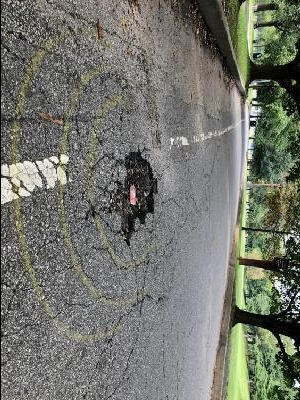pothole: (114, 146, 159, 246)
